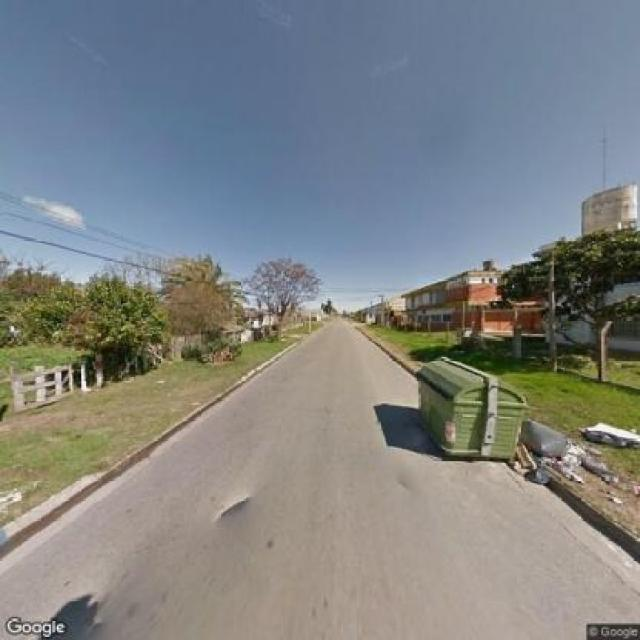garbage: (518, 409, 580, 486)
